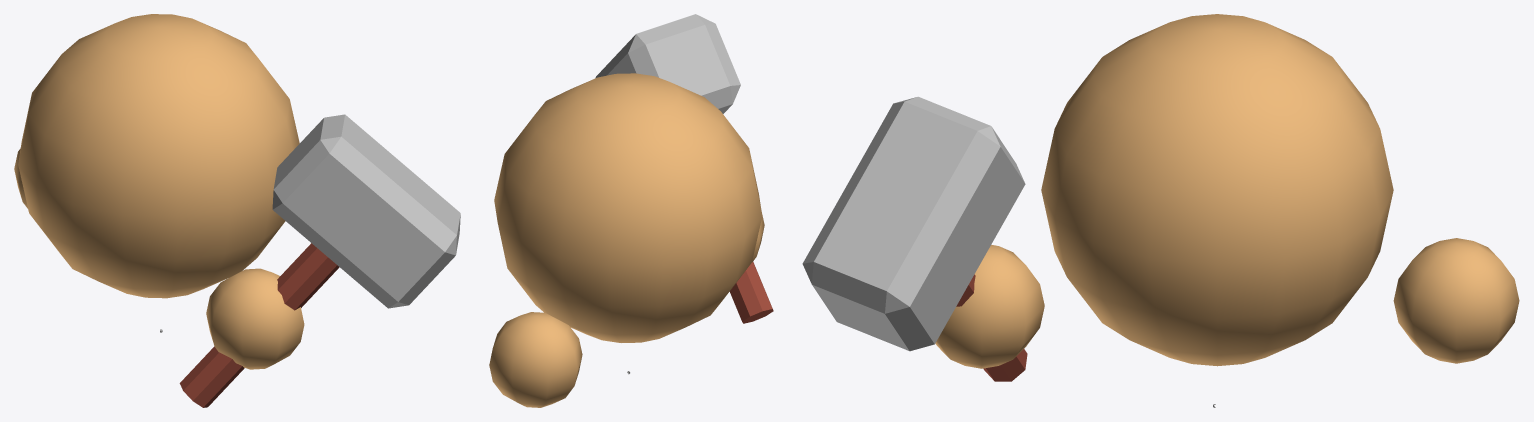
Rendered from Character.fbx.
3 views of the same model, side by side, from view 1: azimuth 30°, elevation 25°; view 2: azimuth 150°, elevation 25°; view 3: azimuth 270°, elevation 25° (orthographic). The views are drawn at different scales.
Parts seen in each view (by area): view 1: Head.001, Hammer.001, Right Arm.001; view 2: Head.001, Hammer.001, Left Arm.001; view 3: Head.001, Hammer.001, Left Arm.001, Right Arm.001.
Boxes of the visible parts, bbox=[...] form: Head.001: bbox=[18, 14, 299, 298]; Hammer.001: bbox=[179, 114, 460, 407]; Right Arm.001: bbox=[206, 268, 304, 369]; Head.001: bbox=[494, 73, 762, 342]; Hammer.001: bbox=[595, 14, 773, 323]; Left Arm.001: bbox=[489, 312, 582, 407]; Head.001: bbox=[1041, 14, 1393, 366]; Hammer.001: bbox=[802, 96, 1027, 381]; Left Arm.001: bbox=[1393, 238, 1519, 363]; Right Arm.001: bbox=[935, 245, 1044, 368].
Size of the model in its own units: 132 by 132 by 228.
